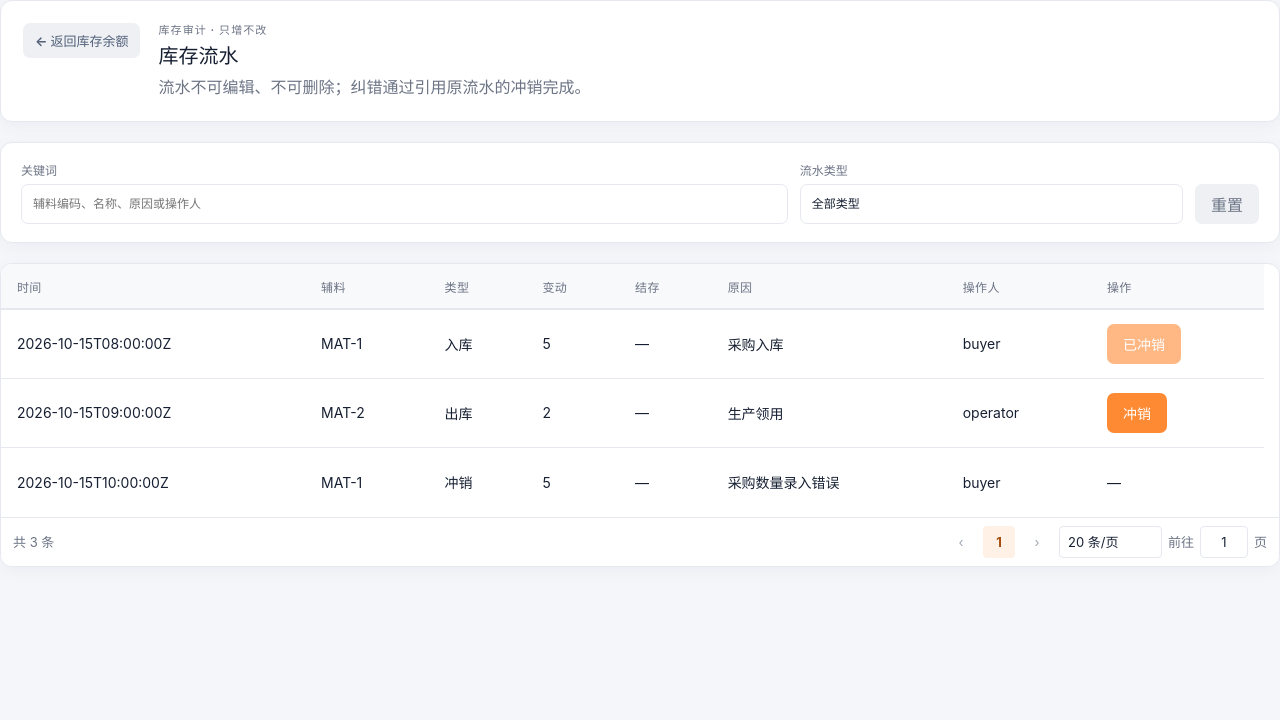
Test: InventoryLedgerView › filters ledger entries by business keyword and transaction type
Type "纸箱" into the field with placeholder "辅料编码、名称、原因或操作人" at (404, 204), box [21,184,788,224]
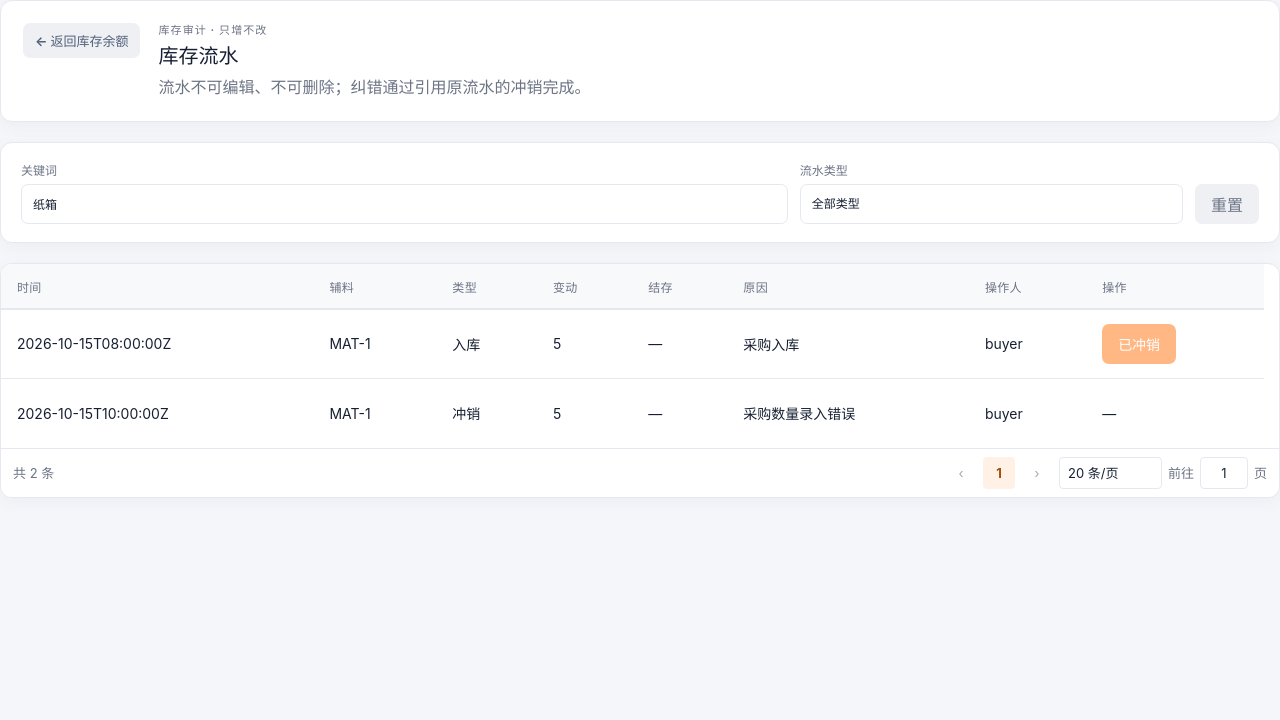
Expected: the text "MAT-1" is shown, [314,310,436,379]
Expected: the text "MAT-2" is gone
Click the button "重置" at (1227, 204), box [1195,184,1259,224]
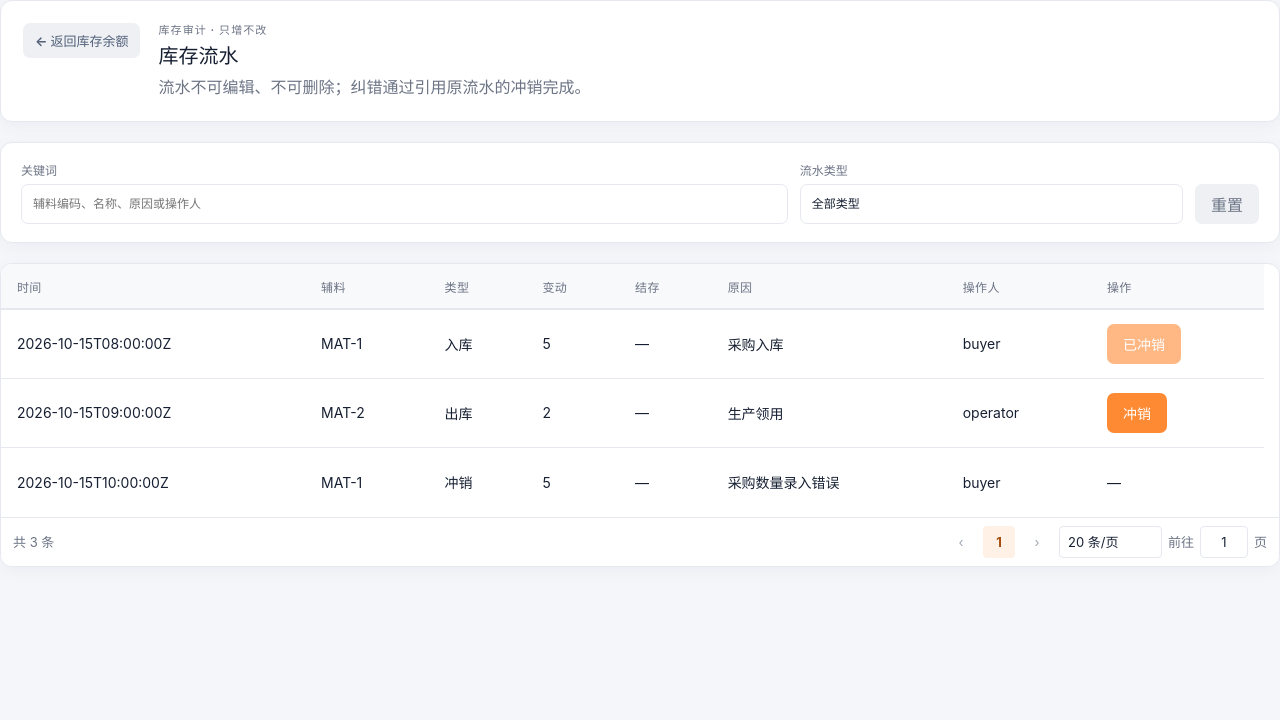
Select "出库" in the dropdown labelled "流水类型" at (991, 204), box [800,184,1183,224]
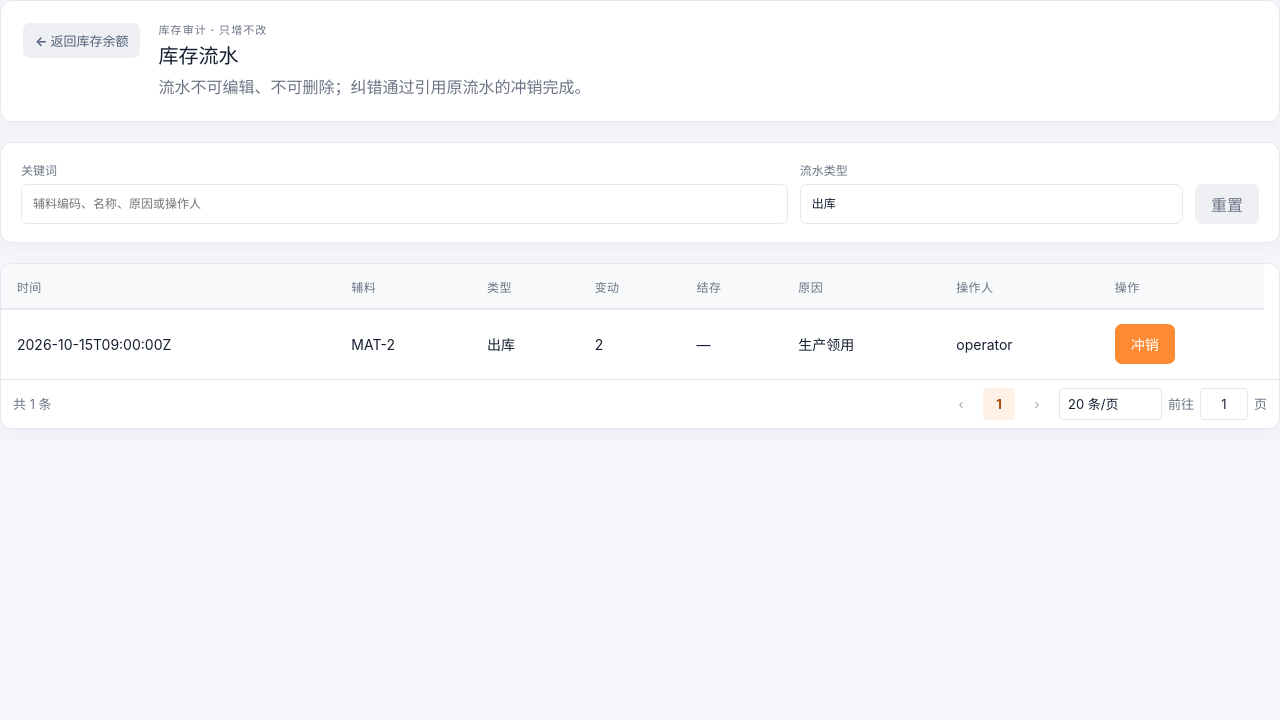
Expected: the text "MAT-2" is shown, [335,310,471,379]
Expected: the text "MAT-1" is gone
